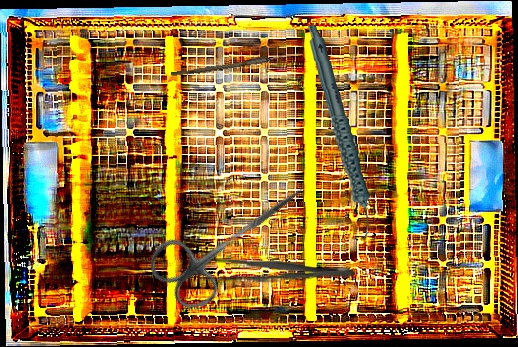Dressing Forceps: (196, 257, 356, 286)
Handpiece: (308, 23, 372, 241)
Iris Scissors: (141, 154, 326, 321)
Surgical Spoon: (170, 49, 303, 80)
